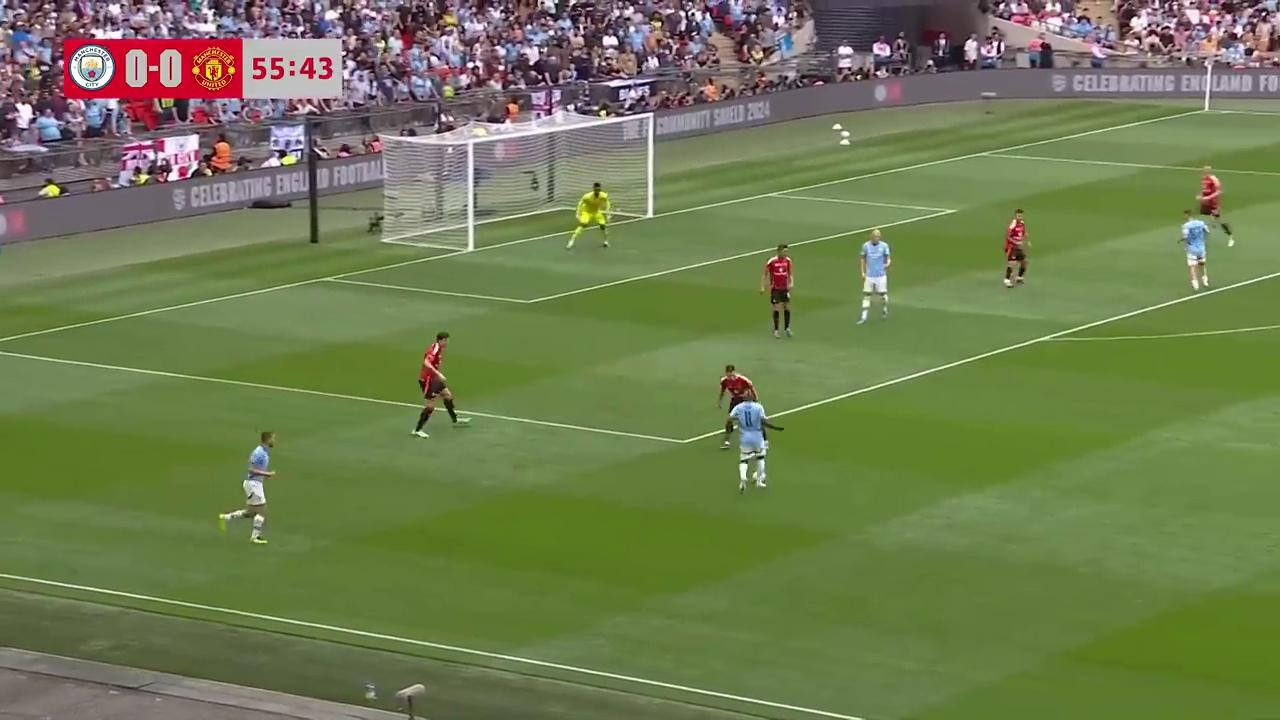player: (218, 431, 278, 546), (416, 332, 472, 438), (727, 388, 783, 492), (856, 228, 892, 324), (716, 364, 758, 445), (564, 182, 612, 250), (761, 245, 793, 337), (1177, 207, 1211, 293), (1196, 165, 1232, 239), (1003, 208, 1032, 287)
